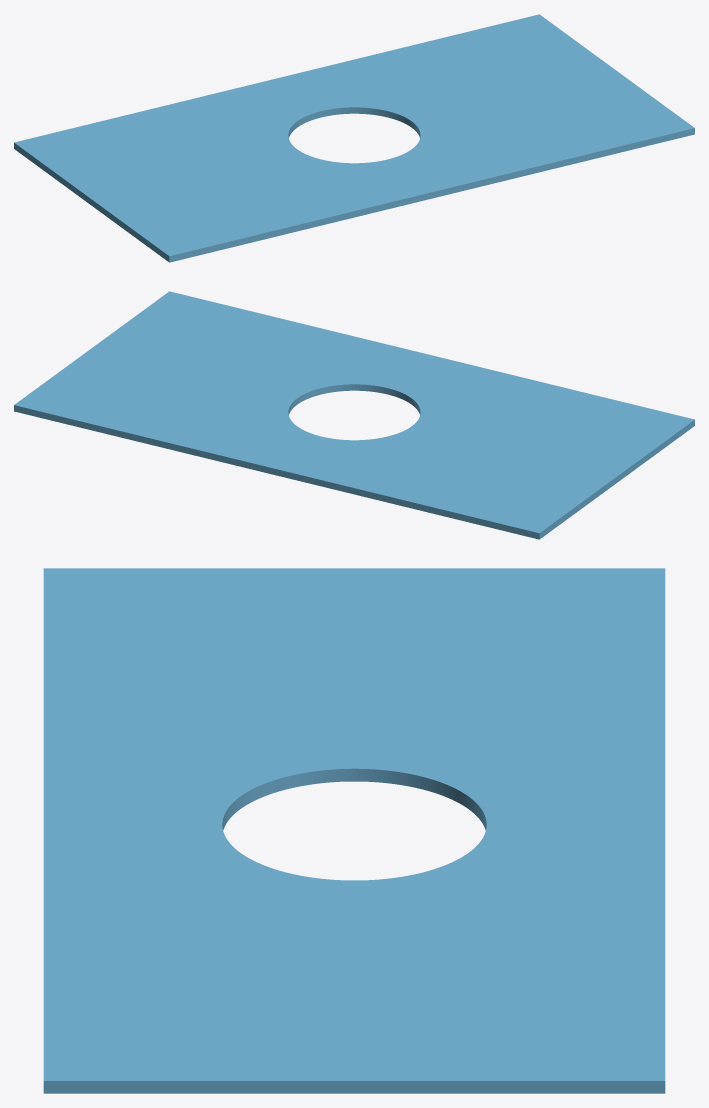
3 renders of one model, top to bottom at view 1: azimuth 30°, elevation 25°; view 2: azimuth 150°, elevation 25°; view 3: azimuth 270°, elevation 25°, orthographic. The views are drawn at different scales.
Visible parts, largest first — view 1: G05_body; view 2: G05_body; view 3: G05_body.
Boxes of the visible parts, x1,y1,x2,y2 form: G05_body: (14, 14, 694, 262); G05_body: (14, 291, 694, 539); G05_body: (43, 568, 665, 1093).
Size of the model in its own units: 145 by 1.67 by 74.05.
